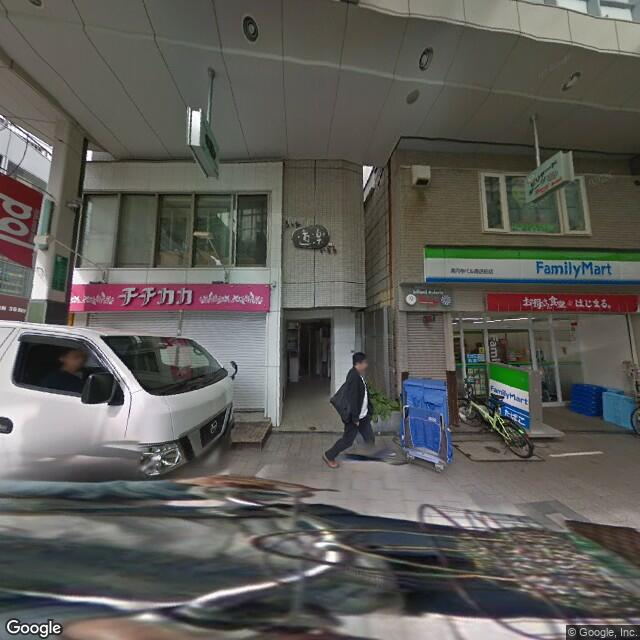family_mart: (423, 239, 640, 286), (530, 253, 613, 283)
